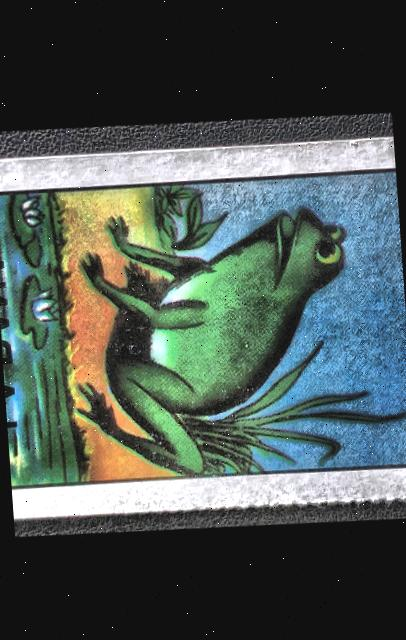La Rana: (0, 140, 406, 511)
